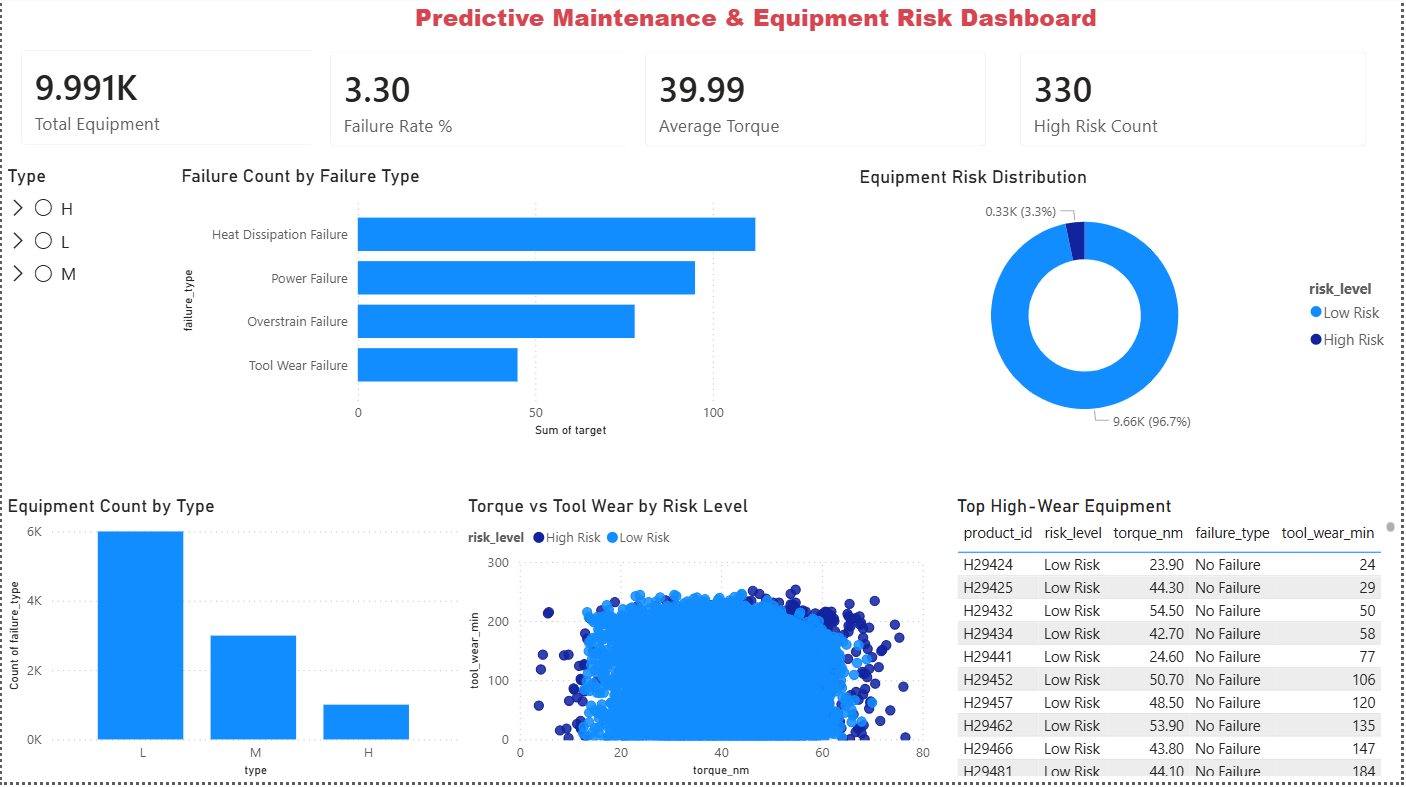

The dashboard page shown, as its layout file describes it:
{"tool":"powerbi","page":{"name":"Page 1","canvas":[1280,720],"ordinal":0},"visuals":[{"type":"cardVisual","fields":{"Data":["CountNonNull(cleaned_equipment_data.product_id)"]},"box":[0,33.4,320.3,121.4],"z":0},{"type":"cardVisual","fields":{"Data":["cleaned_equipment_data.Failure Rate %"]},"box":[283.3,34.8,321.3,121.9],"z":1000},{"type":"cardVisual","fields":{"Data":["cleaned_equipment_data.Average Torque"]},"box":[571.4,34.8,346.6,121.9],"z":2000},{"type":"cardVisual","fields":{"Data":["cleaned_equipment_data.High Risk Count"]},"box":[913.3,34.8,351.4,121.9],"z":3000},{"type":"clusteredBarChart","title":"Failure Count by Failure Type","fields":{"Category":["cleaned_equipment_data.failure_type"],"Y":["Sum(cleaned_equipment_data.target)"]},"box":[159.4,154.8,570.7,253.5],"z":4000},{"type":"donutChart","title":"Equipment Risk Distribution","fields":{"Category":["cleaned_equipment_data.risk_level"],"Y":["Count(cleaned_equipment_data.product_id)"]},"box":[780.1,156.3,499.4,253.5],"z":5000},{"type":"scatterChart","title":"Torque vs Tool Wear by Risk Level","fields":{"X":["cleaned_equipment_data.torque_nm"],"Y":["cleaned_equipment_data.tool_wear_min"],"Series":["cleaned_equipment_data.risk_level"]},"box":[421.9,456.9,432.6,262.6],"z":6000},{"type":"listSlicer","fields":{"Values":["cleaned_equipment_data.type","cleaned_equipment_data.risk_level","cleaned_equipment_data.failure_type"]},"box":[0,155.1,142.5,223.2],"z":7000},{"type":"tableEx","title":"Top High-Wear Equipment","fields":{"Values":["cleaned_equipment_data.product_id","cleaned_equipment_data.risk_level","cleaned_equipment_data.torque_nm","cleaned_equipment_data.failure_type","cleaned_equipment_data.tool_wear_min"]},"box":[868.2,456.9,411.3,262.6],"z":8000},{"type":"textbox","box":[100.2,0,1179.3,44],"z":9000},{"type":"clusteredColumnChart","title":"Equipment Count by Type","fields":{"Category":["cleaned_equipment_data.type"],"Y":["CountNonNull(cleaned_equipment_data.failure_type)"]},"box":[0,457.5,422.6,262.8],"z":10000}]}

Visuals, with their boxes in screenshot pixels (x1, y1, x2, y2), scaled from the page's 1280x720 canvas onto the 1406x787 screenshot:
cardVisual - CountNonNull(cleaned_equipment_data.product_id): <bbox>0, 37, 352, 169</bbox>
cardVisual - cleaned_equipment_data.Failure Rate %: <bbox>311, 38, 664, 171</bbox>
cardVisual - cleaned_equipment_data.Average Torque: <bbox>628, 38, 1008, 171</bbox>
cardVisual - cleaned_equipment_data.High Risk Count: <bbox>1003, 38, 1389, 171</bbox>
"Failure Count by Failure Type" clusteredBarChart: <bbox>175, 169, 802, 446</bbox>
"Equipment Risk Distribution" donutChart: <bbox>857, 171, 1405, 448</bbox>
"Torque vs Tool Wear by Risk Level" scatterChart: <bbox>463, 499, 939, 786</bbox>
listSlicer - cleaned_equipment_data.type x cleaned_equipment_data.risk_level: <bbox>0, 170, 157, 414</bbox>
"Top High-Wear Equipment" tableEx: <bbox>954, 499, 1405, 786</bbox>
textbox: <bbox>110, 0, 1405, 48</bbox>
"Equipment Count by Type" clusteredColumnChart: <bbox>0, 500, 464, 786</bbox>
